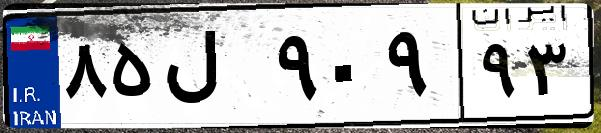0: (330, 28, 385, 110)
3: (525, 38, 570, 115)
5: (110, 28, 158, 98)
8: (57, 26, 110, 100)
9: (270, 28, 330, 110), (385, 28, 445, 110), (475, 38, 525, 113)
ل: (158, 20, 270, 120)
